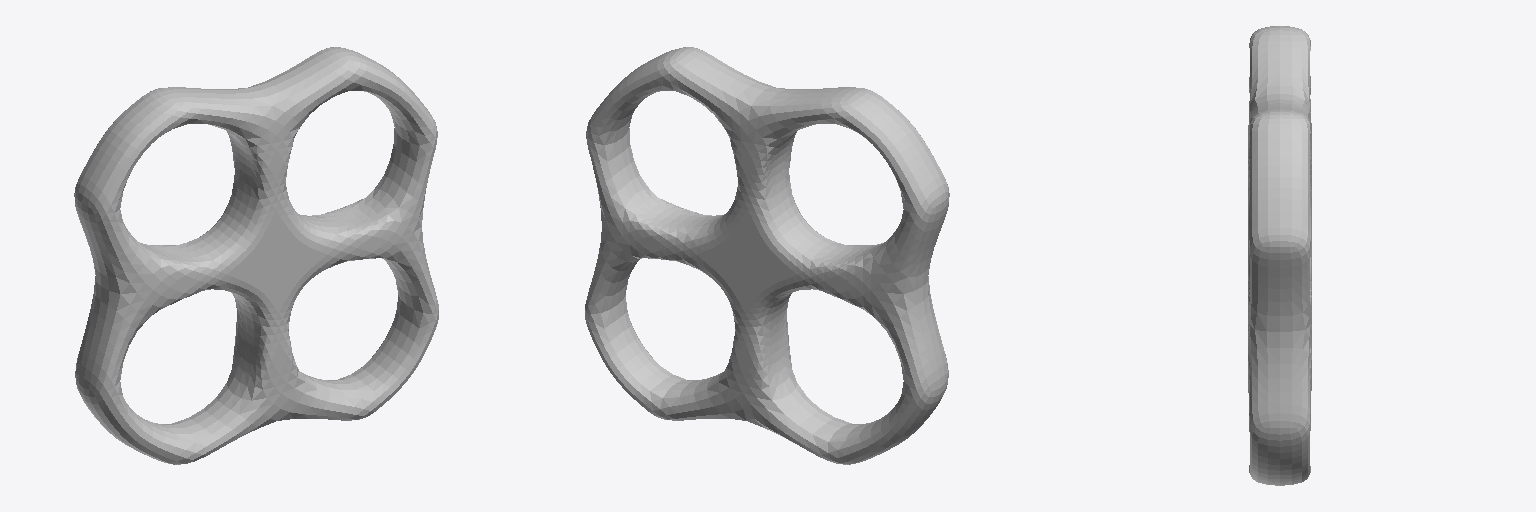
File: ParrotAR.obj
3 views of the same model, side by side, from view 1: azimuth 30°, elevation 25°; view 2: azimuth 150°, elevation 25°; view 3: azimuth 270°, elevation 25° (orthographic).
Size of the model in its own units: 0.5737 by 0.5774 by 0.0911.